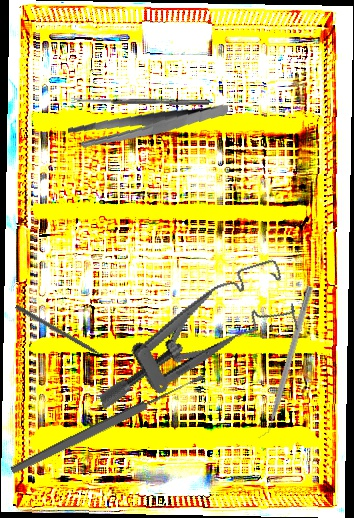Chopper: (254, 283, 314, 442)
Dressing Forceps: (66, 90, 229, 160)
Pusher: (14, 304, 115, 366)
Speculum: (75, 256, 307, 412)
Surgical Spoon: (9, 371, 206, 477), (70, 96, 210, 106)
